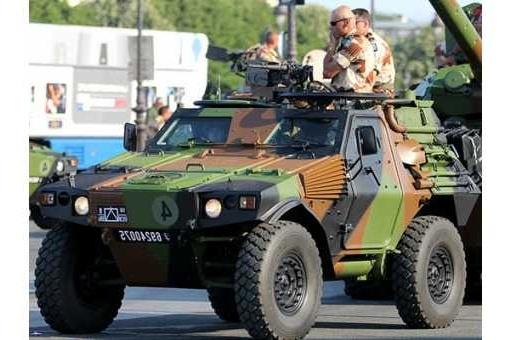license_plate: (118, 228, 166, 244)
